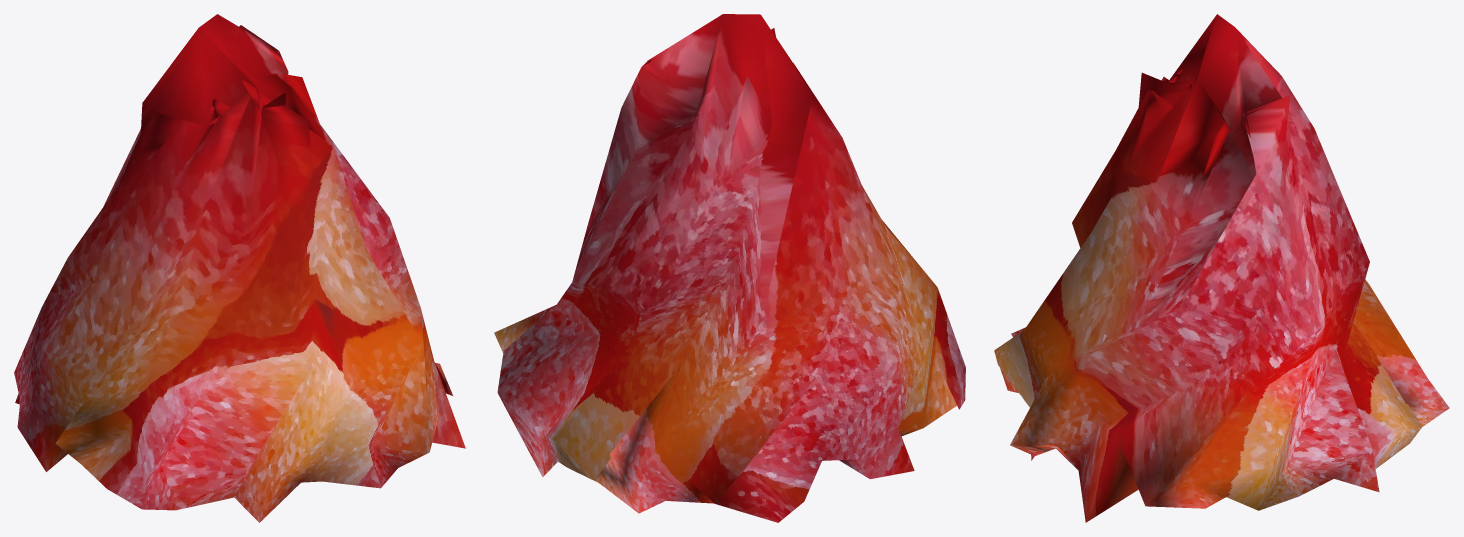
Rendered from Jellies Topping.obj.
3 renders of one model, left to right at view 1: azimuth 30°, elevation 25°; view 2: azimuth 150°, elevation 25°; view 3: azimuth 270°, elevation 25°, orthographic. The views are drawn at different scales.
Parts seen in each view (by area): view 1: Jellies; view 2: Jellies; view 3: Jellies.
Part boxes in pixels (<box>): Jellies: <box>14,14,465,522</box>; Jellies: <box>494,14,965,522</box>; Jellies: <box>994,14,1449,522</box>.
Bounding box in the file's own units: 0.0925 × 0.0961 × 0.0953.
